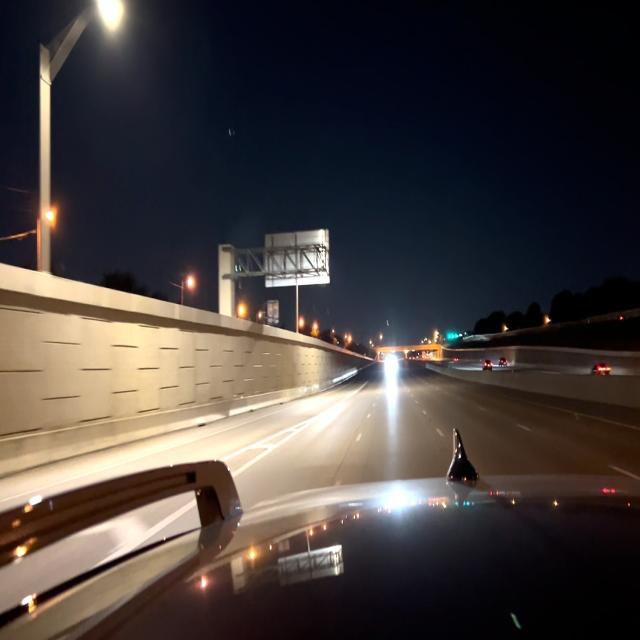back-of-sign: (264, 231, 329, 282), (268, 301, 278, 323)
